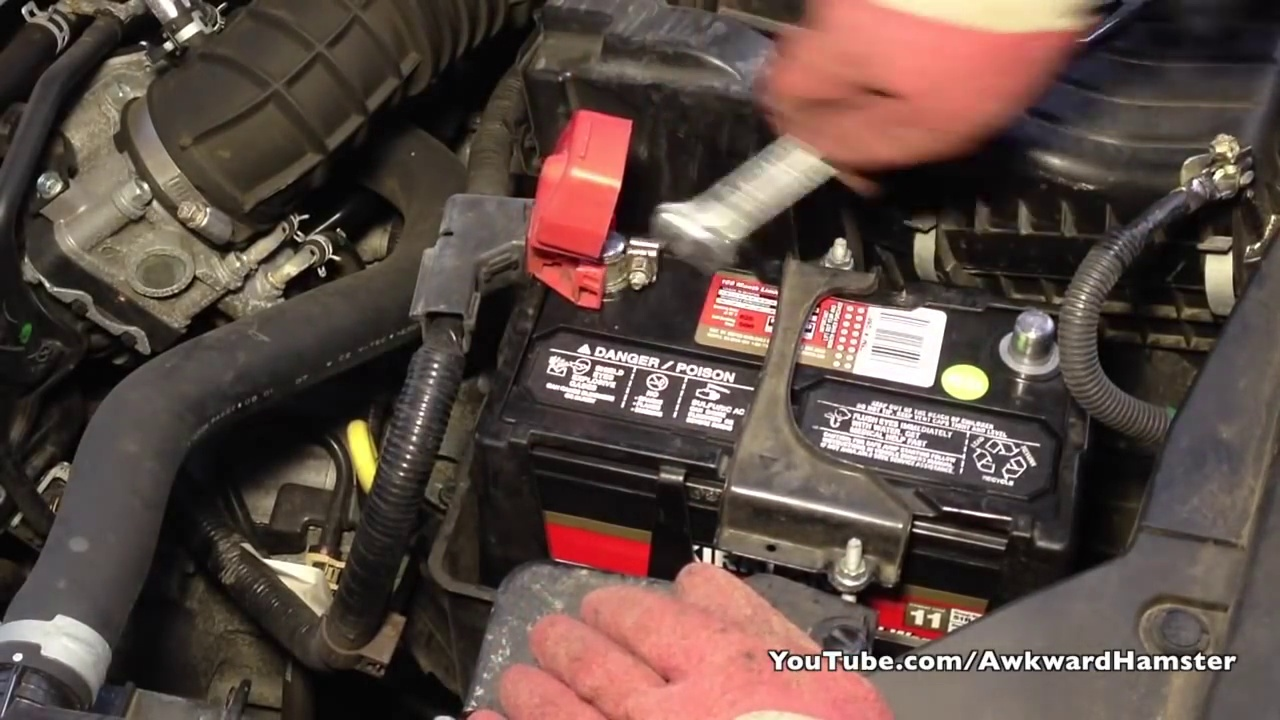battery: (484, 233, 1075, 545)
neg_disconnected: (977, 275, 1088, 402)
pos_connected: (483, 118, 651, 318)
